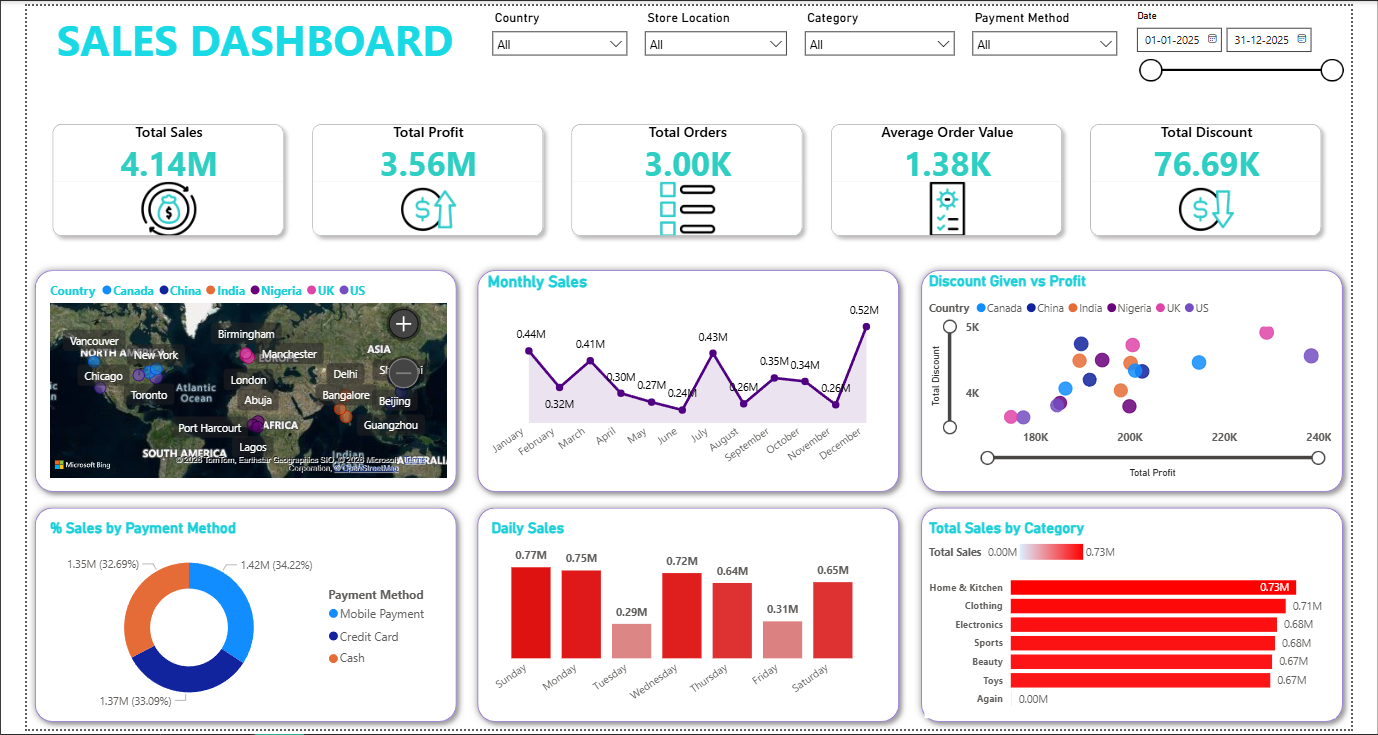

What the dashboard file says about the page in this screenshot:
{"tool":"powerbi","page":{"name":"Page 1","canvas":[1500,820],"ordinal":0},"visuals":[{"type":"cardVisual","fields":{"Data":["public Sales Data.Total Sales","public Sales Data.Total Profit","public Sales Data.Total Orders","public Sales Data.Average Order Value","public Sales Data.Total Discount"]},"box":[0,104.8,1500.3,185.6],"z":0},{"type":"textbox","box":[0,0,517.1,87.8],"z":1000},{"type":"slicer","fields":{"Values":["public Sales Data.Country"]},"box":[517.1,0,172.8,104.8],"z":2000},{"type":"slicer","fields":{"Values":["public Sales Data.Store Location"]},"box":[689.9,0,181.3,104.8],"z":3000},{"type":"slicer","fields":{"Values":["public Sales Data.Category"]},"box":[871.3,0,189.8,104.8],"z":4000},{"type":"slicer","fields":{"Values":["public Sales Data.Payment Method"]},"box":[1061.1,0,184.2,104.8],"z":5000},{"type":"slicer","fields":{"Values":["public Sales Data.Date"]},"box":[1245.3,0,255,104.8],"z":6000},{"type":"shape","box":[0,290.4,495.9,269.2],"z":7000},{"type":"map","fields":{"Category":["public Sales Data.Store Location"],"Size":["public Sales Data.Total Sales"],"Series":["public Sales Data.Country"]},"box":[21.3,301.8,460.4,238],"z":8000},{"type":"shape","box":[501.5,290.4,495.9,269.2],"z":9000},{"type":"shape","box":[501.5,559.6,495.9,260.7],"z":10000},{"type":"areaChart","title":"Monthly Sales","fields":{"Category":["public Sales Data.Month Name"],"Y":["public Sales Data.Total Sales"]},"box":[517.1,301.8,453.4,238],"z":11000},{"type":"columnChart","title":"Daily Sales","fields":{"Category":["public Sales Data.Day Name"],"Y":["public Sales Data.Total Sales"]},"box":[521.4,580.9,443.4,226.7],"z":12000},{"type":"shape","box":[0,559.6,495.9,260.7],"z":13000},{"type":"donutChart","title":"% Sales by Payment Method","fields":{"Y":["public Sales Data.Total Sales"],"Category":["public Sales Data.Payment Method"]},"box":[21.3,580.9,449.1,226.7],"z":14000},{"type":"shape","box":[1004.5,290.4,495.9,269.2],"z":15000},{"type":"scatterChart","title":"Discount Given vs Profit","fields":{"Y":["public Sales Data.Total Discount"],"X":["public Sales Data.Total Profit"],"Category":["public Sales Data.Store Location"],"Series":["public Sales Data.Country"],"Size":["public Sales Data.Total Orders"]},"box":[1017.2,301.8,466.1,238],"z":15001},{"type":"shape","box":[1004.5,559.6,495.9,260.7],"z":15002},{"type":"barChart","fields":{"Y":["public Sales Data.Total Sales"],"Category":["public Sales Data.Category"]},"box":[1017.2,580.9,466.1,226.7],"z":15003}]}

Visuals, with their boxes in screenshot pixels (x1, y1, x2, y2), scaled from the page's 1500x820 canvas onto the 1378x735 screenshot:
cardVisual - public Sales Data.Total Sales x public Sales Data.Total Profit: {"left": 0, "top": 94, "right": 1377, "bottom": 260}
textbox: {"left": 0, "top": 0, "right": 475, "bottom": 79}
slicer - public Sales Data.Country: {"left": 475, "top": 0, "right": 634, "bottom": 94}
slicer - public Sales Data.Store Location: {"left": 634, "top": 0, "right": 800, "bottom": 94}
slicer - public Sales Data.Category: {"left": 800, "top": 0, "right": 975, "bottom": 94}
slicer - public Sales Data.Payment Method: {"left": 975, "top": 0, "right": 1144, "bottom": 94}
slicer - public Sales Data.Date: {"left": 1144, "top": 0, "right": 1377, "bottom": 94}
shape: {"left": 0, "top": 260, "right": 456, "bottom": 502}
map - public Sales Data.Store Location x public Sales Data.Total Sales: {"left": 20, "top": 271, "right": 443, "bottom": 484}
shape: {"left": 461, "top": 260, "right": 916, "bottom": 502}
shape: {"left": 461, "top": 502, "right": 916, "bottom": 734}
"Monthly Sales" areaChart: {"left": 475, "top": 271, "right": 892, "bottom": 484}
"Daily Sales" columnChart: {"left": 479, "top": 521, "right": 886, "bottom": 724}
shape: {"left": 0, "top": 502, "right": 456, "bottom": 734}
"% Sales by Payment Method" donutChart: {"left": 20, "top": 521, "right": 432, "bottom": 724}
shape: {"left": 923, "top": 260, "right": 1377, "bottom": 502}
"Discount Given vs Profit" scatterChart: {"left": 934, "top": 271, "right": 1363, "bottom": 484}
shape: {"left": 923, "top": 502, "right": 1377, "bottom": 734}
barChart - public Sales Data.Total Sales x public Sales Data.Category: {"left": 934, "top": 521, "right": 1363, "bottom": 724}
